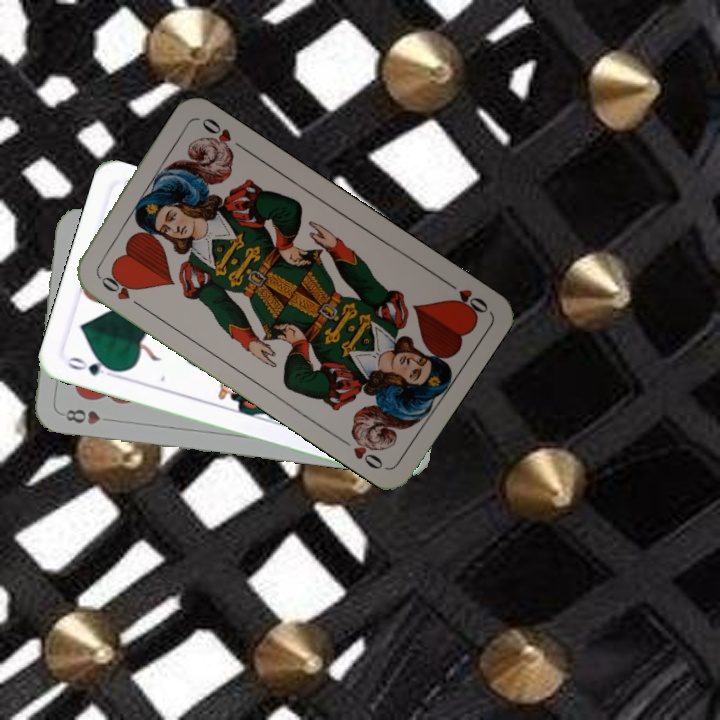GO: (63, 352, 121, 379)
H8: (61, 405, 116, 427)
HO: (439, 275, 491, 320), (93, 268, 145, 311)
